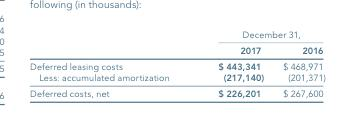table: (29, 28, 324, 98)
table column: (29, 28, 193, 98), (193, 28, 272, 98), (272, 28, 324, 98)
table column header: (29, 28, 324, 57)
table row: (29, 42, 324, 57), (29, 28, 324, 42), (29, 57, 324, 71), (29, 71, 324, 85), (29, 85, 324, 98)
table spanning cell: (193, 28, 324, 42)
